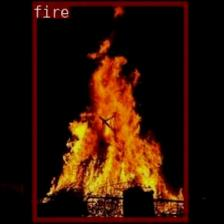fire: (31, 0, 187, 220)
